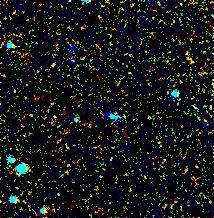star: (174, 45, 204, 75)
